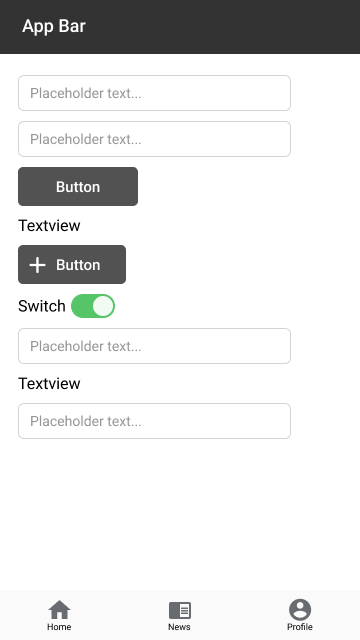button: (16, 165, 139, 207)
buttonImage: (16, 241, 128, 286)
editText: (17, 117, 293, 159), (17, 401, 293, 440), (15, 327, 293, 365), (18, 74, 292, 112)
navigationButton: (1, 590, 358, 640)
switch: (15, 290, 117, 322)
textView: (16, 375, 83, 391), (17, 219, 84, 233)
toolbar: (1, 1, 360, 56)
